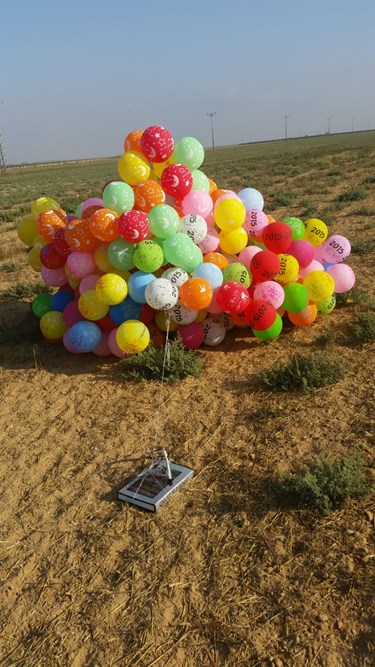Balloon: (141, 126, 174, 162), (216, 281, 250, 315), (213, 197, 246, 232), (116, 320, 149, 354), (162, 233, 195, 265), (145, 278, 178, 310), (96, 273, 128, 306), (90, 208, 121, 241), (70, 320, 101, 353), (180, 278, 211, 311), (161, 164, 191, 198), (117, 151, 149, 182), (262, 221, 292, 254), (103, 182, 133, 214), (304, 271, 334, 303), (134, 239, 164, 271), (38, 209, 69, 239), (246, 301, 277, 331), (250, 252, 280, 283), (321, 234, 351, 264), (174, 137, 204, 167), (148, 205, 177, 236), (253, 280, 285, 308), (325, 265, 355, 294), (194, 263, 223, 292), (78, 290, 104, 321), (176, 321, 203, 349), (66, 251, 95, 277), (109, 240, 134, 270), (39, 311, 65, 339), (137, 182, 163, 210), (282, 282, 307, 311), (224, 262, 251, 288), (183, 192, 211, 217), (201, 318, 226, 346), (40, 243, 63, 269)
